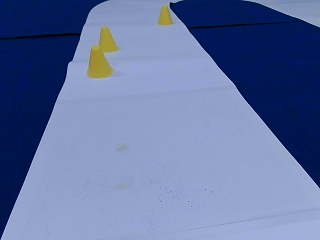cone: (86, 47, 112, 78), (98, 27, 117, 52), (158, 5, 172, 25)
